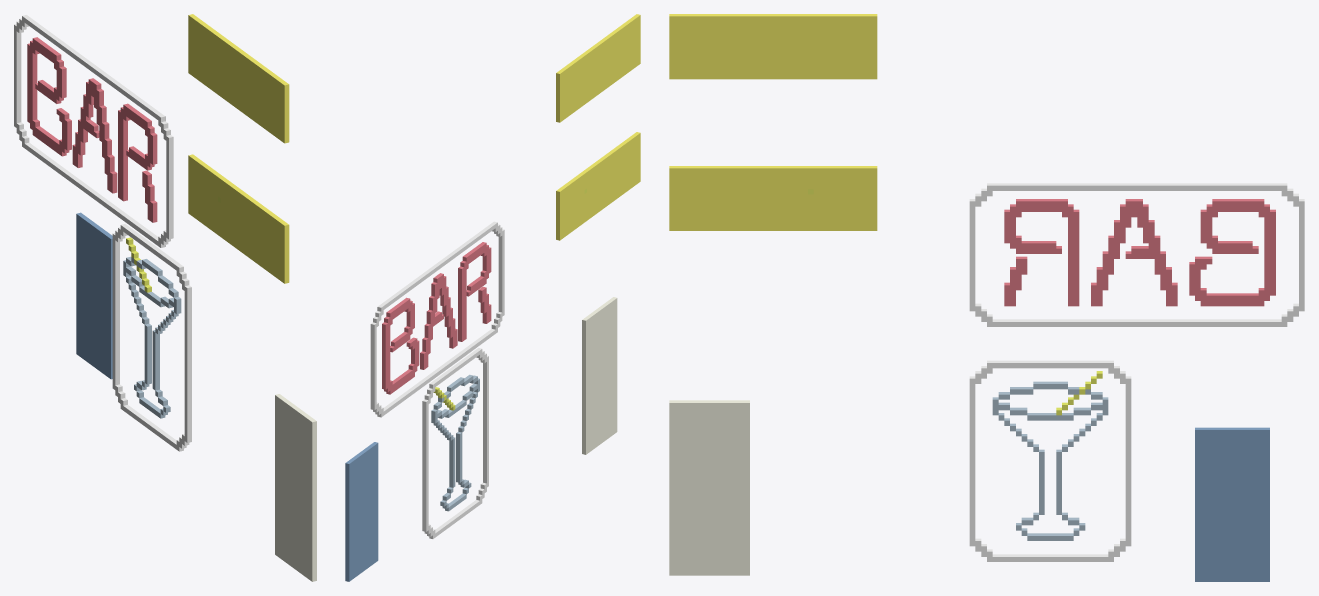
The model's file is neon1.obj.
3 views of the same model, side by side, from view 1: azimuth 30°, elevation 25°; view 2: azimuth 150°, elevation 25°; view 3: azimuth 270°, elevation 25° (orthographic). The views are drawn at different scales.
Bounding box in the file's own units: 16 × 104 × 110.
1 material, 1 textured.
